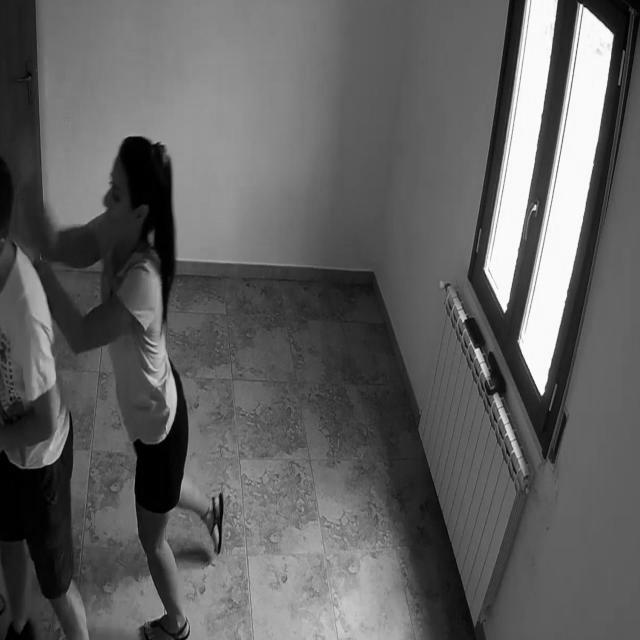weapon: (24, 180, 35, 205)
